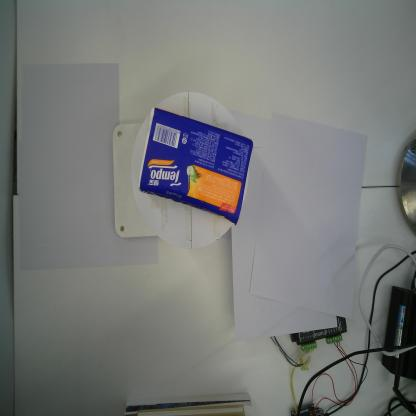Tissue: (138, 107, 254, 225)
